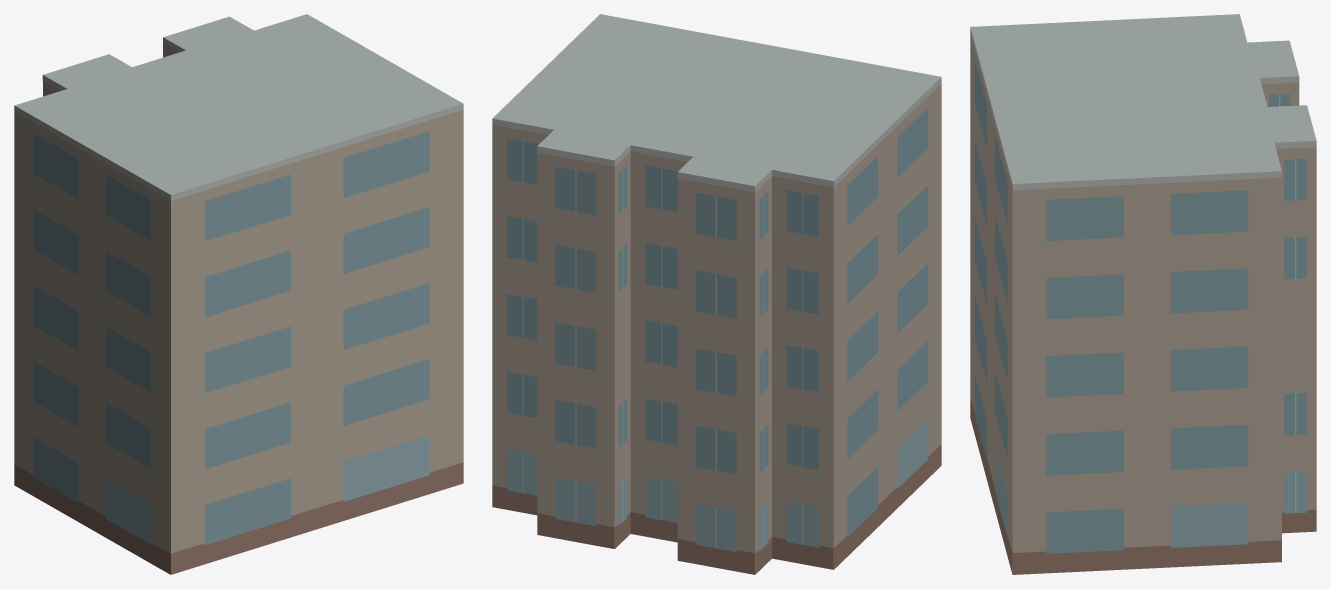
The model's file is survey-upis-32927359.glb.
The picture shows the model from 3 angles, left to right: view 1: azimuth 30°, elevation 25°; view 2: azimuth 150°, elevation 25°; view 3: azimuth 270°, elevation 25°; orthographic projection. The views are drawn at different scales.
Parts seen in each view (by area): view 1: survey-upis-32927359.tmp; view 2: survey-upis-32927359.tmp; view 3: survey-upis-32927359.tmp.
Part boxes in pixels (left/top/right/bottom): survey-upis-32927359.tmp: left=14, top=14, right=463, bottom=574; survey-upis-32927359.tmp: left=492, top=14, right=941, bottom=574; survey-upis-32927359.tmp: left=970, top=14, right=1316, bottom=574.
Size of the model in its own units: 14.24 by 15.25 by 12.26.
